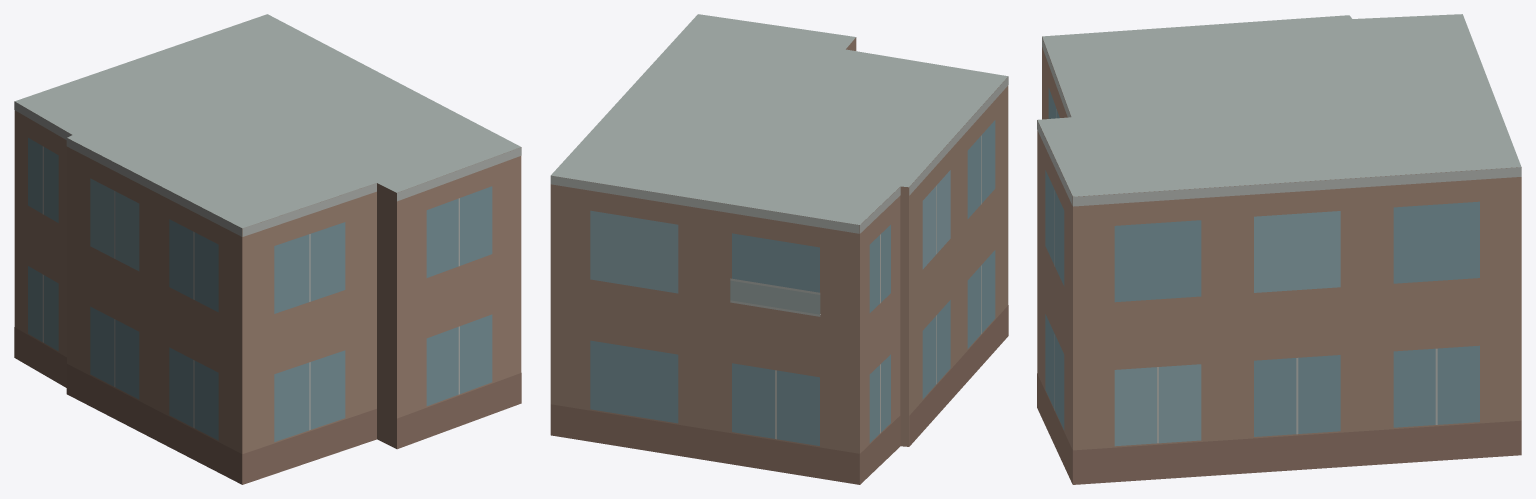
Rendered from survey-upis-32876917.glb.
The picture shows the model from 3 angles, left to right: view 1: azimuth 30°, elevation 25°; view 2: azimuth 150°, elevation 25°; view 3: azimuth 270°, elevation 25°; orthographic projection. The views are drawn at different scales.
Visible parts, largest first — view 1: survey-upis-32876917.tmp; view 2: survey-upis-32876917.tmp; view 3: survey-upis-32876917.tmp.
Boxes of the visible parts, bbox=[...] form: survey-upis-32876917.tmp: bbox=[14, 14, 521, 484]; survey-upis-32876917.tmp: bbox=[550, 14, 1008, 484]; survey-upis-32876917.tmp: bbox=[1037, 14, 1521, 484].
Size of the model in its own units: 9.81 by 7.2 by 10.98.
